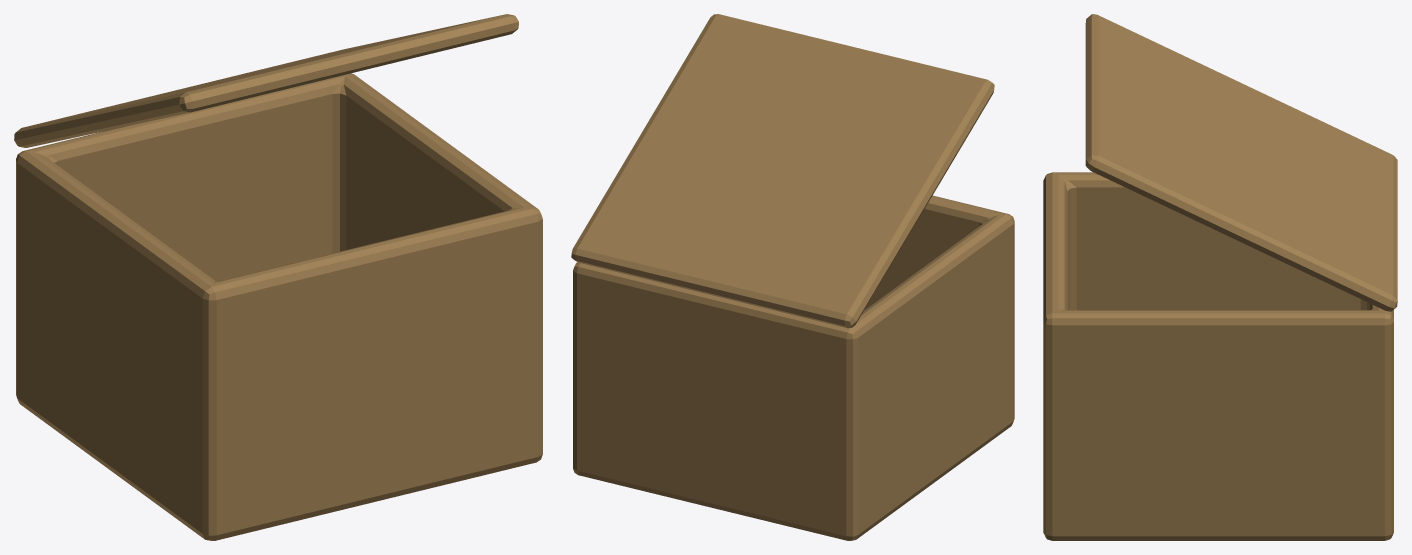
The model's file is Craft_Table.fbx.
3 renders of one model, left to right at view 1: azimuth 30°, elevation 25°; view 2: azimuth 150°, elevation 25°; view 3: azimuth 270°, elevation 25°, orthographic. The views are drawn at different scales.
Visible parts, largest first — view 1: Cube.011; view 2: Cube.011; view 3: Cube.011.
Boxes of the visible parts, left/top/right/bottom form: Cube.011: left=14, top=14, right=542, bottom=540; Cube.011: left=571, top=14, right=1014, bottom=540; Cube.011: left=1043, top=14, right=1397, bottom=540.
Bounding box in the file's own units: 10 × 12.12 × 10.1.
